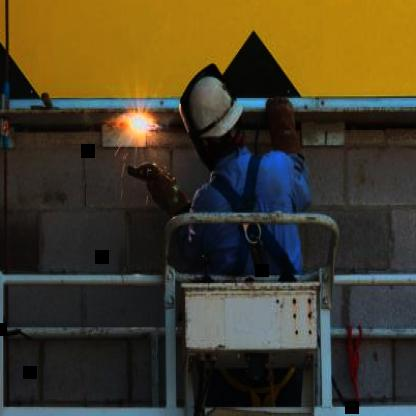helmet: (184, 76, 246, 156)
